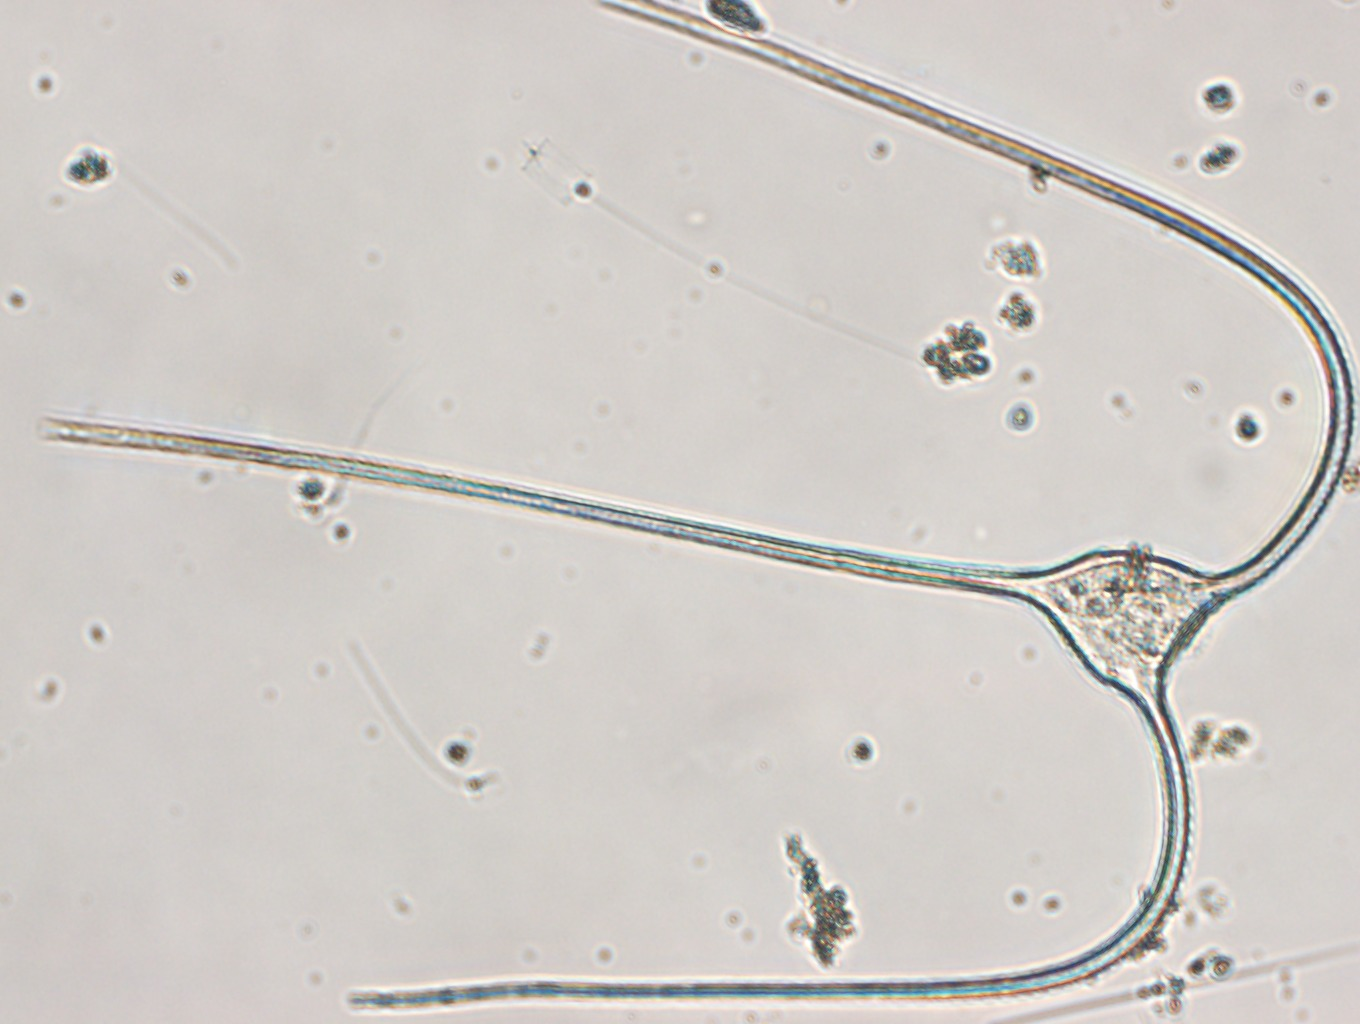ceratium trichoceros: (39, 1, 1360, 1024)
